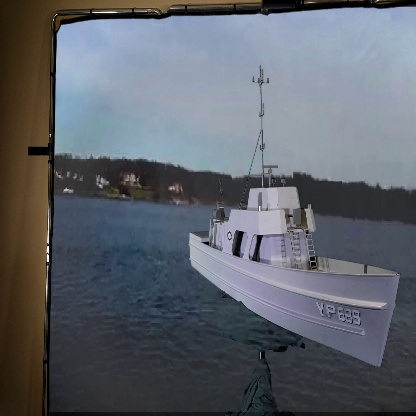YP689: (189, 67, 400, 370)
